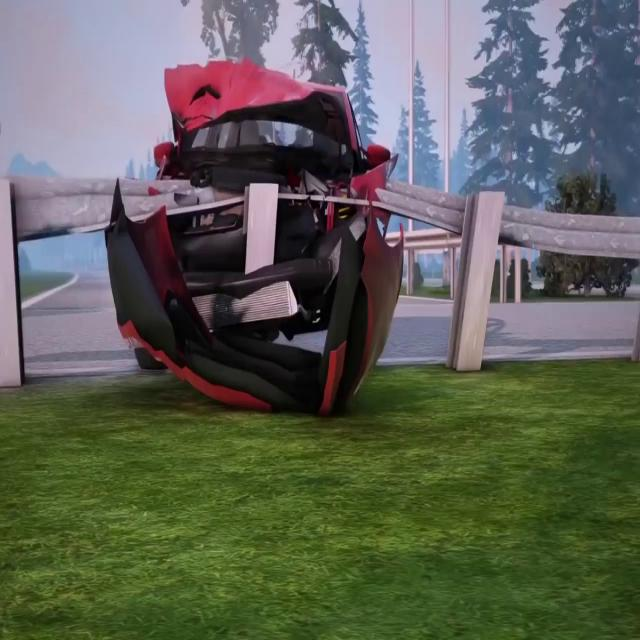accident: (88, 25, 470, 402)
